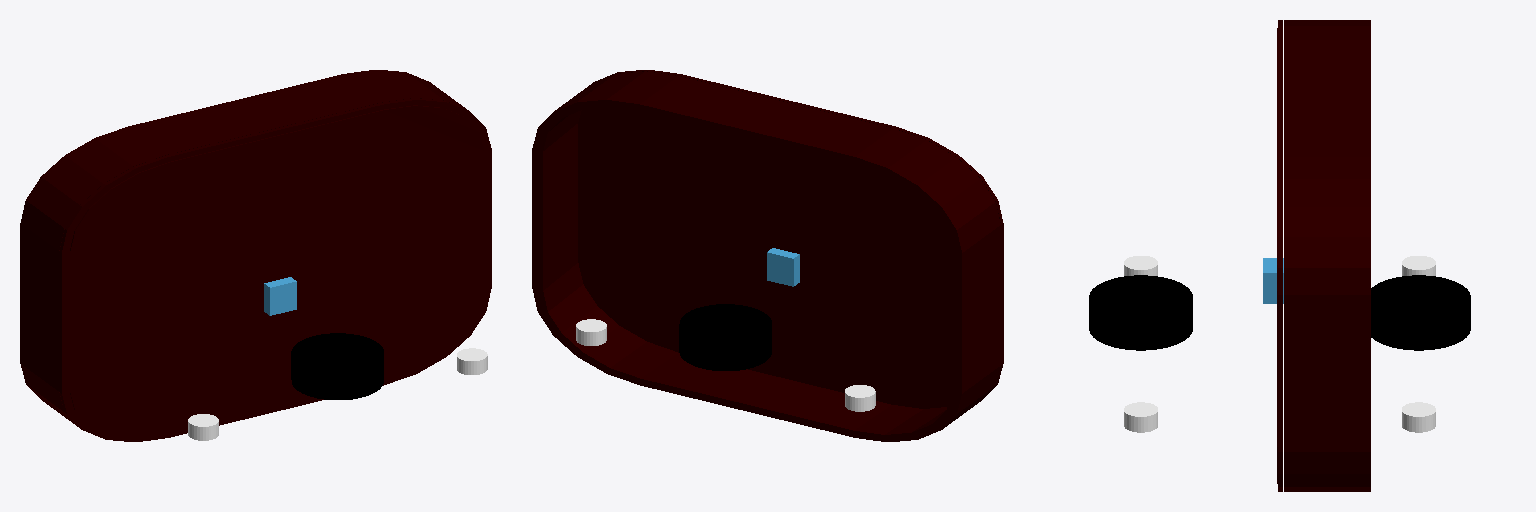
The robot description file, URDF, robot "low_amr":
<?xml version="1.0"?>
<robot name="low_amr">

  <link name="base_footprint"/>

  <joint name="base_footprint_joint" type="fixed">
    <parent link="base_footprint"/>
    <child link="base_link"/>
    <origin xyz="0 0 0" rpy="0 0 0"/>
  </joint>

  <link name="base_link">
    <visual>
      <geometry> <box size="0.1 0.1 0.1"/> </geometry>
    </visual>
    <collision>
      <geometry> <box size="0.1 0.1 0.1"/> </geometry>
    </collision>
    <inertial>
      <mass value="100.0"/>
      <inertia ixx="5.0" ixy="0.0" ixz="0.0" iyy="5.0" iyz="0.0" izz="5.0"/>
    </inertial>
  </link>

  <joint name="left_wheel_joint" type="continuous">
    <parent link="base_link"/>
    <child link="left_wheel_link"/>
    <origin xyz="0 -0.4 -0.101" rpy="0 0 0"/> <axis xyz="0 1 0"/> </joint>
  <link name="left_wheel_link">
    <visual>
      <geometry> <mesh filename="wheel.dae"/> </geometry>
    </visual>
    <collision>
      <geometry> <mesh filename="wheel.dae"/> </geometry>
    </collision>
  </link>

  <joint name="right_wheel_joint" type="continuous">
    <parent link="base_link"/>
    <child link="right_wheel_link"/>
    <origin xyz="0 0.4 -0.101" rpy="0 0 0"/> <axis xyz="0 1 0"/>
  </joint>
  <link name="right_wheel_link">
    <visual>
      <geometry> <mesh filename="wheel.dae"/> </geometry>
    </visual>
    <collision>
      <geometry> <mesh filename="wheel.dae"/> </geometry>
    </collision>
  </link>

  <joint name="cast_wheel_joint1" type="fixed">
    <parent link="base_link"/>
    <child link="cast_wheel_link1"/>
    <origin xyz="0.5 0.4 -0.2" rpy="0 0 0"/>
  </joint>
  <link name="cast_wheel_link1">
    <visual>
      <geometry> <mesh filename="cast_wheel.dae"/> </geometry>
    </visual>
    <collision>
      <geometry> <mesh filename="cast_wheel.dae"/> </geometry>
    </collision>
  </link>

  <joint name="cast_wheel_joint2" type="fixed">
    <parent link="base_link"/>
    <child link="cast_wheel_link2"/>
    <origin xyz="-0.5 0.4 -0.2" rpy="0 0 0"/>
  </joint>
  <link name="cast_wheel_link2">
    <visual>
      <geometry> <mesh filename="cast_wheel.dae"/> </geometry>
    </visual>
    <collision>
      <geometry> <mesh filename="cast_wheel.dae"/> </geometry>
    </collision>
  </link>

  <joint name="cast_wheel_joint3" type="fixed">
    <parent link="base_link"/>
    <child link="cast_wheel_link3"/>
    <origin xyz="0.5 -0.4 -0.2" rpy="0 0 0"/>
  </joint>
  <link name="cast_wheel_link3">
    <visual>
      <geometry> <mesh filename="cast_wheel.dae"/> </geometry>
    </visual>
    <collision>
      <geometry> <mesh filename="cast_wheel.dae"/> </geometry>
    </collision>
  </link>

  <joint name="cast_wheel_joint4" type="fixed">
    <parent link="base_link"/>
    <child link="cast_wheel_link4"/>
    <origin xyz="-0.5 -0.4 -0.2" rpy="0 0 0"/>
  </joint>
  <link name="cast_wheel_link4">
    <visual>
      <geometry> <mesh filename="cast_wheel.dae"/> </geometry>
    </visual>
    <collision>
      <geometry> <mesh filename="cast_wheel.dae"/> </geometry>
    </collision>
  </link>

  <joint name="mast_joint" type="fixed">
    <parent link="base_link"/>
    <child link="mast_link"/>
    <origin xyz="0 0 0.08" rpy="0 0 0"/>
  </joint>
  
  <link name="mast_link">

    <visual> <geometry> <mesh filename="mast/mast_base_up.dae"/> </geometry> </visual>
    <visual> <geometry> <mesh filename="mast/mast_base_front.dae"/> </geometry> </visual>
    <visual> <geometry> <mesh filename="mast/mast_base_back.dae"/> </geometry> </visual>
    <visual> <geometry> <mesh filename="mast/mast_base_right.dae"/> </geometry> </visual>
    <visual> <geometry> <mesh filename="mast/mast_base_left.dae"/> </geometry> </visual>

    <collision> <geometry> <mesh filename="mast/mast_base_up.dae"/> </geometry> </collision>
    <collision> <geometry> <mesh filename="mast/mast_base_front.dae"/> </geometry> </collision>
    <collision> <geometry> <mesh filename="mast/mast_base_back.dae"/> </geometry> </collision>
    <collision> <geometry> <mesh filename="mast/mast_base_right.dae"/> </geometry> </collision>
    <collision> <geometry> <mesh filename="mast/mast_base_left.dae"/> </geometry> </collision>
  
    <inertial>
      <mass value="0.001"/>
      <origin xyz="0 0 0" rpy="0 0 0"/>
      <inertia ixx="0.2" ixy="0.0" ixz="0.0" iyy="0.2" iyz="0.0" izz="0.05"/>
    </inertial>
  </link>

</robot>

--- What the picture shows (computed from the rendered views, not written in the file) ---
Views: 3 orthographic renders of the robot side by side, from view 1: azimuth 30°, elevation 25°; view 2: azimuth 150°, elevation 25°; view 3: azimuth 270°, elevation 25°.
Model low_amr with 9 links and 8 joints (2 continuous, 6 fixed), rooted at base_footprint, posed every joint at zero.
Visible links, largest first — view 1: mast_link, left_wheel_link, base_link, cast_wheel_link4, cast_wheel_link3; view 2: mast_link, right_wheel_link, base_link, cast_wheel_link1, cast_wheel_link2; view 3: mast_link, left_wheel_link, right_wheel_link, cast_wheel_link1, cast_wheel_link3, base_link, cast_wheel_link2, cast_wheel_link4.
Boxes of the visible links, box(x1,y1,x2,y2) form: mast_link: box(20, 70, 491, 441); left_wheel_link: box(291, 333, 383, 399); base_link: box(264, 277, 296, 315); cast_wheel_link4: box(188, 414, 218, 440); cast_wheel_link3: box(457, 348, 487, 374); mast_link: box(532, 70, 1003, 441); right_wheel_link: box(679, 304, 771, 370); base_link: box(767, 248, 799, 286); cast_wheel_link1: box(576, 319, 606, 345); cast_wheel_link2: box(845, 385, 875, 411); mast_link: box(1277, 20, 1370, 491); left_wheel_link: box(1089, 275, 1192, 350); right_wheel_link: box(1371, 275, 1470, 350); cast_wheel_link1: box(1402, 402, 1435, 432); cast_wheel_link3: box(1124, 402, 1157, 432); base_link: box(1263, 258, 1283, 303); cast_wheel_link2: box(1402, 256, 1435, 275); cast_wheel_link4: box(1124, 256, 1157, 275).
Size in the robot's own frame: 1.6 by 1.1 by 1 metres.
11 mesh visuals loaded from 7 distinct referenced files (7 Collada DAE).
